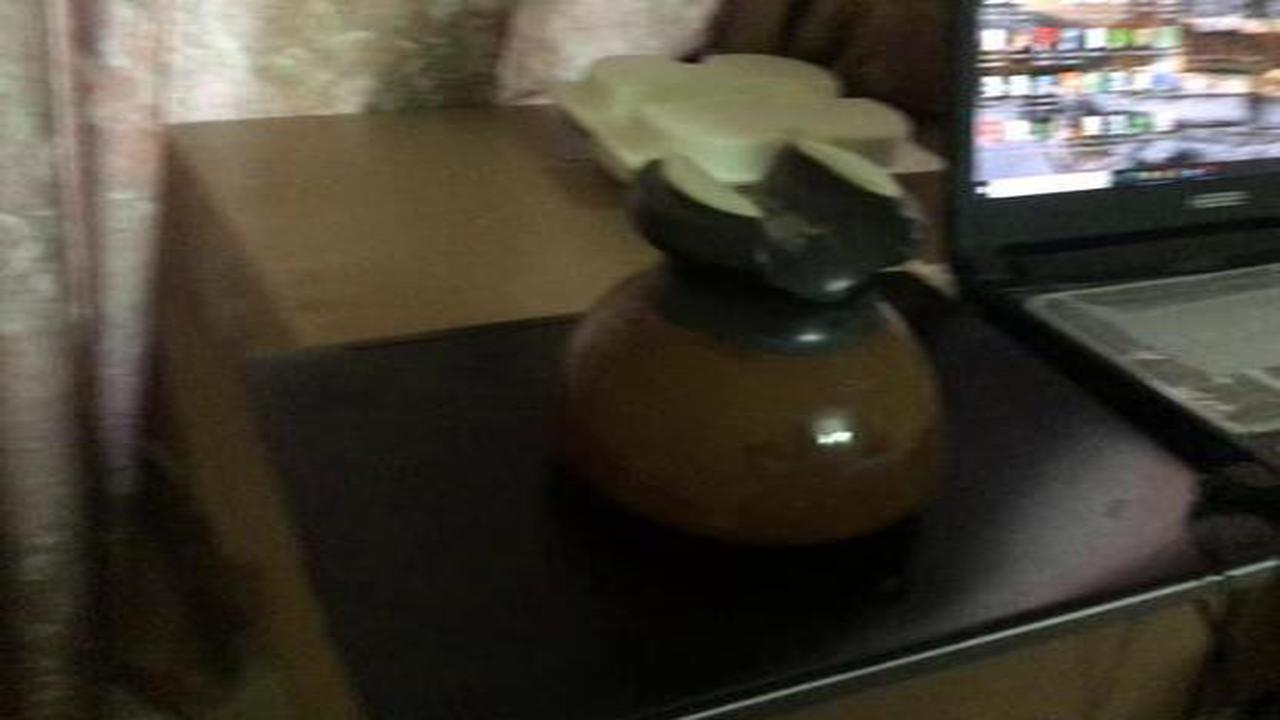insulator_pin: (533, 124, 982, 565)
